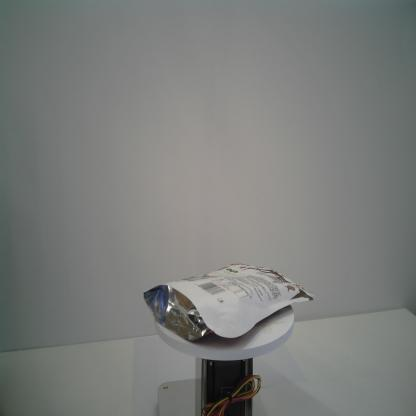Dried Fruit: (142, 262, 316, 344)
